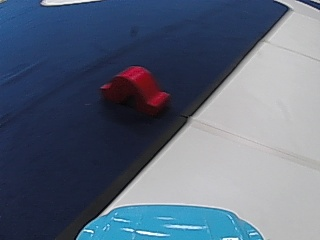bridge: (98, 63, 176, 119)
